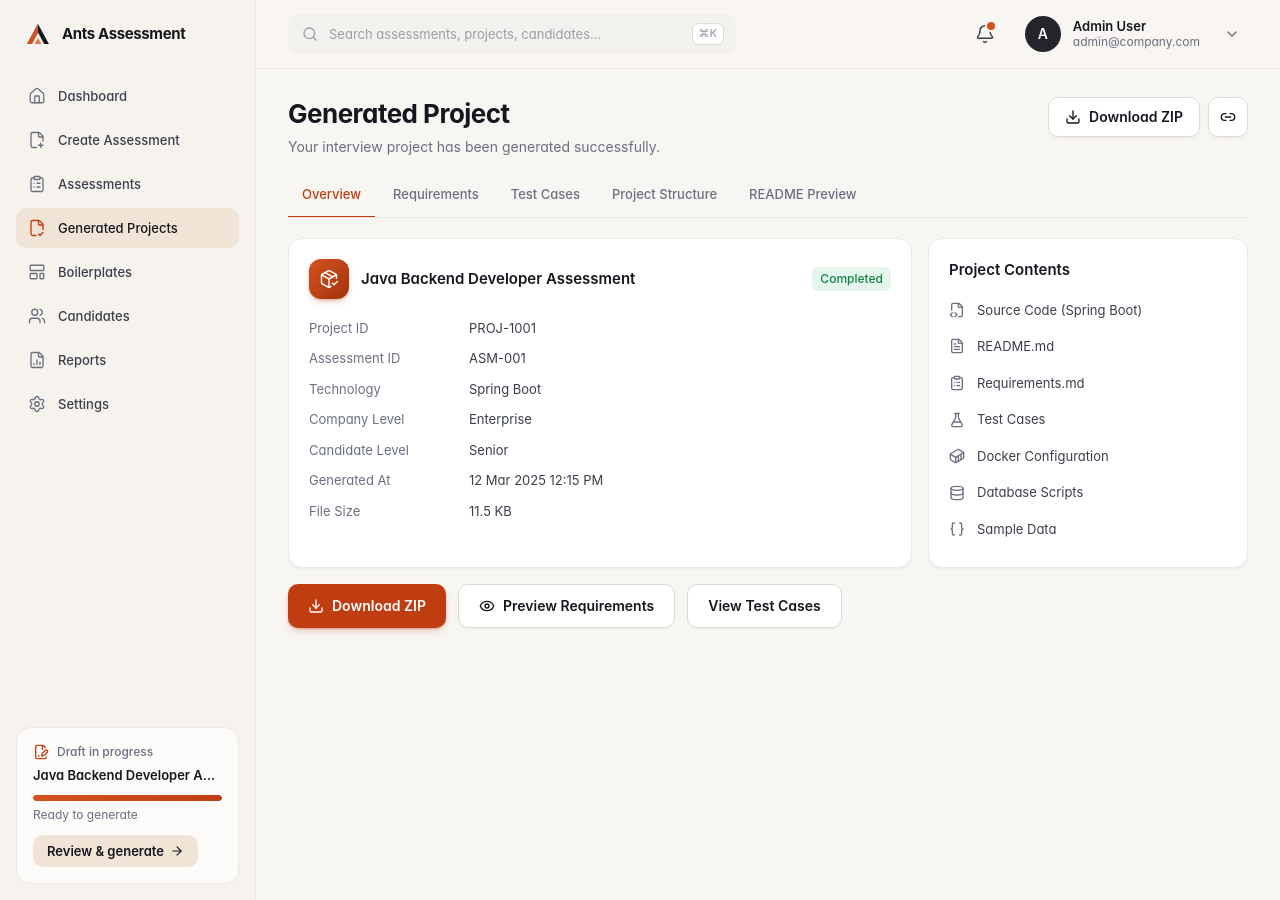
Generated Project Details › switches tabs through the URL (deep-linkable)
Click the button "Preview Requirements" at (567, 606), box x1=458 y1=584 x2=675 y2=628
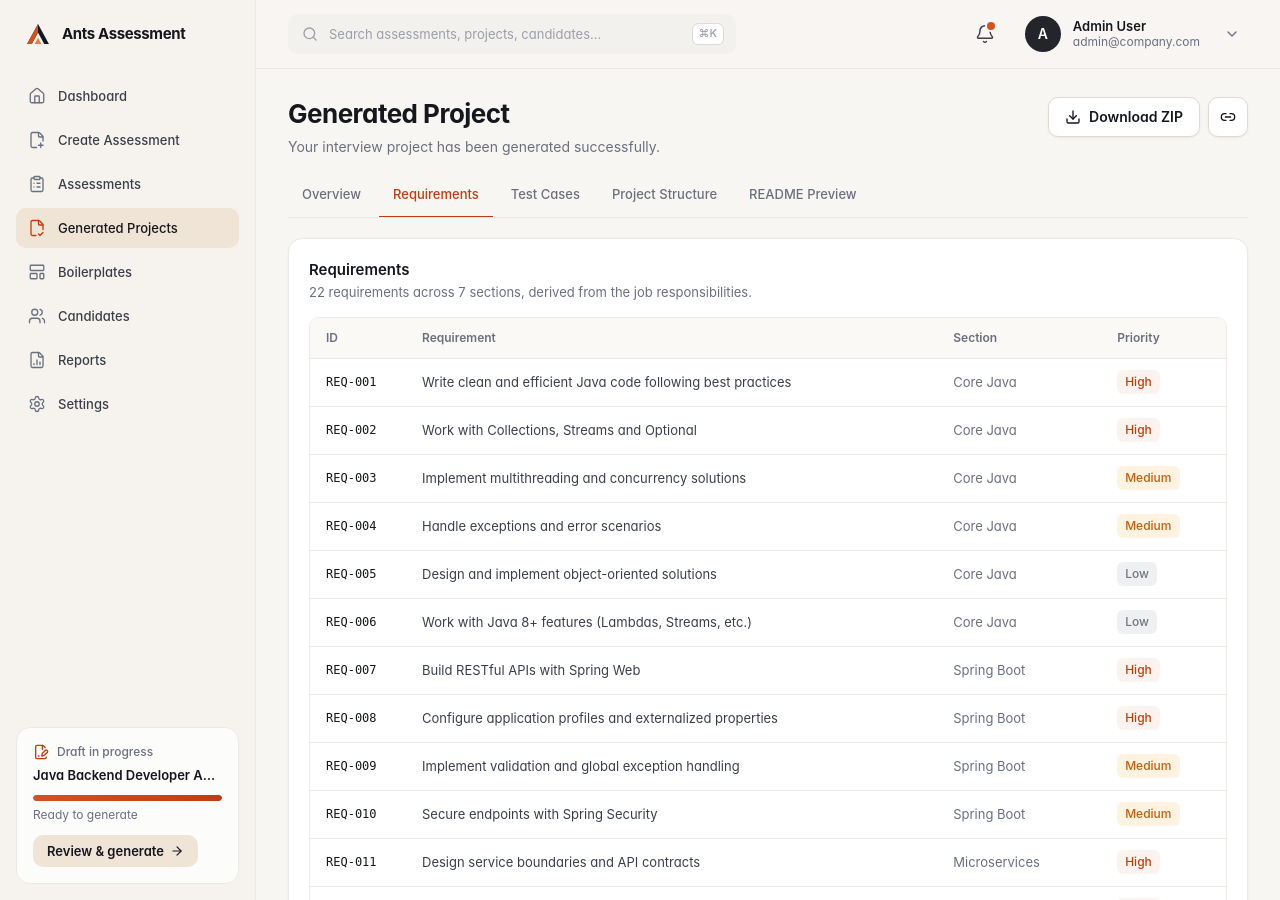
Check: the row that starts with "REQ-001" is shown, box x1=326 y1=375 x2=377 y2=389
Click the tab "Test Cases" at (545, 199), box x1=497 y1=181 x2=594 y2=218
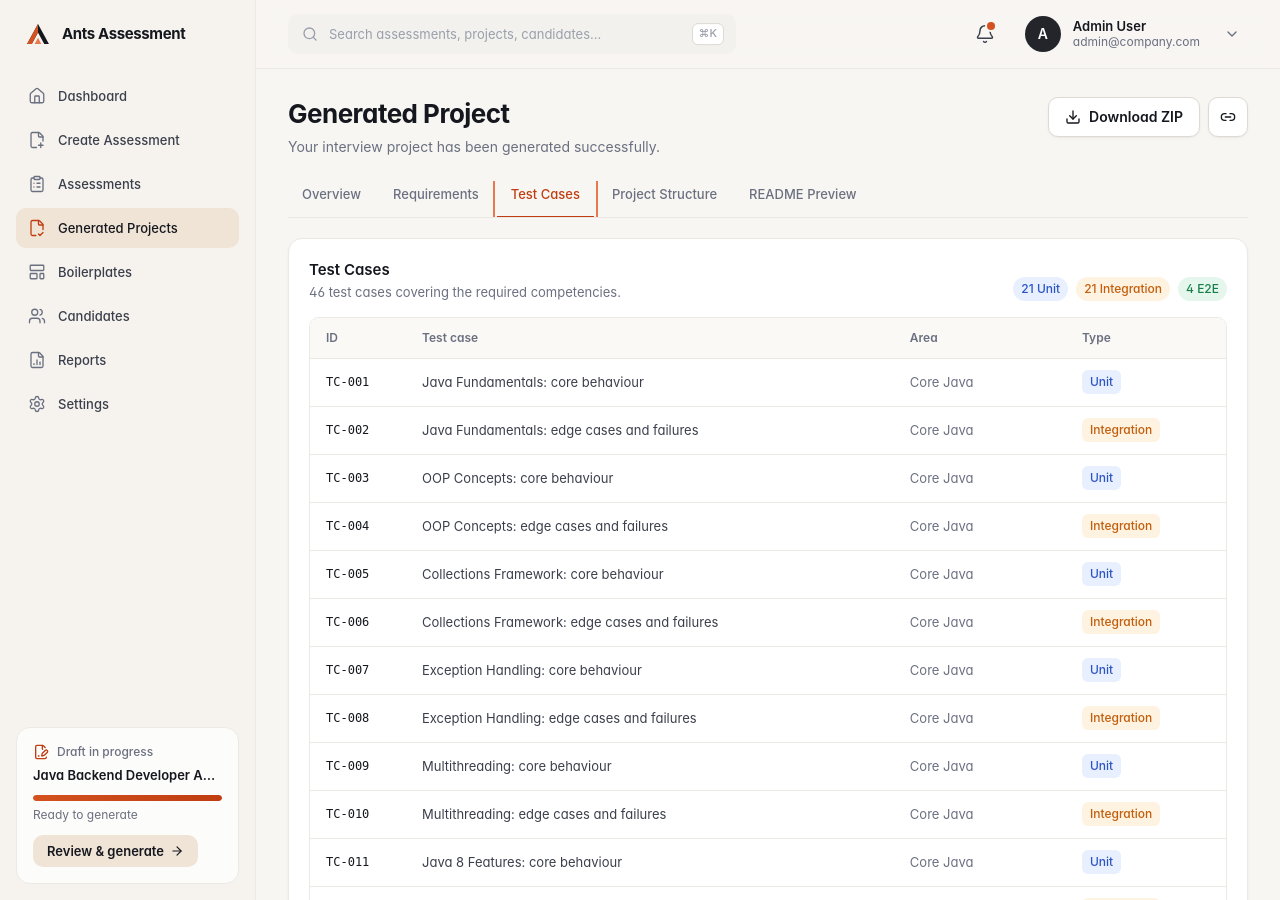
Check: the text "4 E2E" is shown, box x1=1178 y1=277 x2=1227 y2=301
